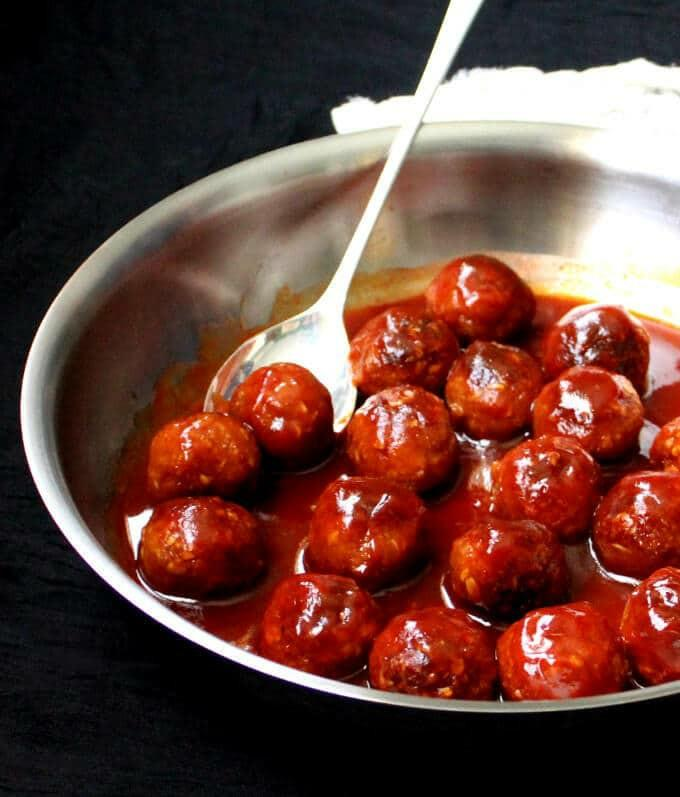GulabJamun: (137, 497, 266, 606), (489, 603, 622, 708), (307, 468, 430, 572), (447, 512, 568, 610), (366, 608, 494, 700), (263, 562, 370, 672), (529, 364, 638, 466), (535, 300, 652, 394), (493, 434, 598, 538), (345, 380, 450, 482), (235, 365, 337, 464), (427, 252, 532, 344), (587, 468, 680, 568), (145, 416, 258, 496), (353, 304, 448, 394), (623, 562, 680, 696), (453, 350, 538, 422), (649, 416, 680, 471)
